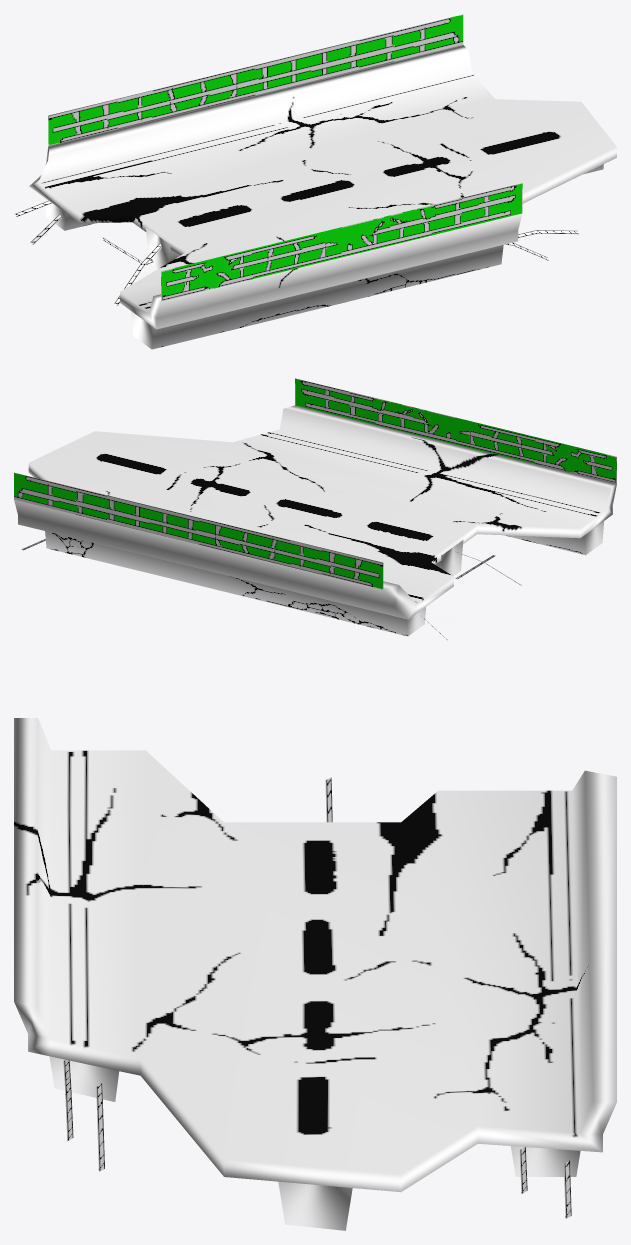
Rendered from Bridge_01_01.fbx.
3 views of the same model, one above another, from view 1: azimuth 30°, elevation 25°; view 2: azimuth 150°, elevation 25°; view 3: azimuth 270°, elevation 25° (orthographic). The views are drawn at different scales.
Visible parts, largest first — view 1: Bridge_01_01; view 2: Bridge_01_01; view 3: Bridge_01_01.
Boxes of the visible parts, box(x1,y1,x2,y2) form: Bridge_01_01: box(14, 14, 616, 349); Bridge_01_01: box(14, 378, 616, 640); Bridge_01_01: box(14, 718, 616, 1230).
Bounding box in the file's own units: 29.4 × 5.74 × 17.65.
